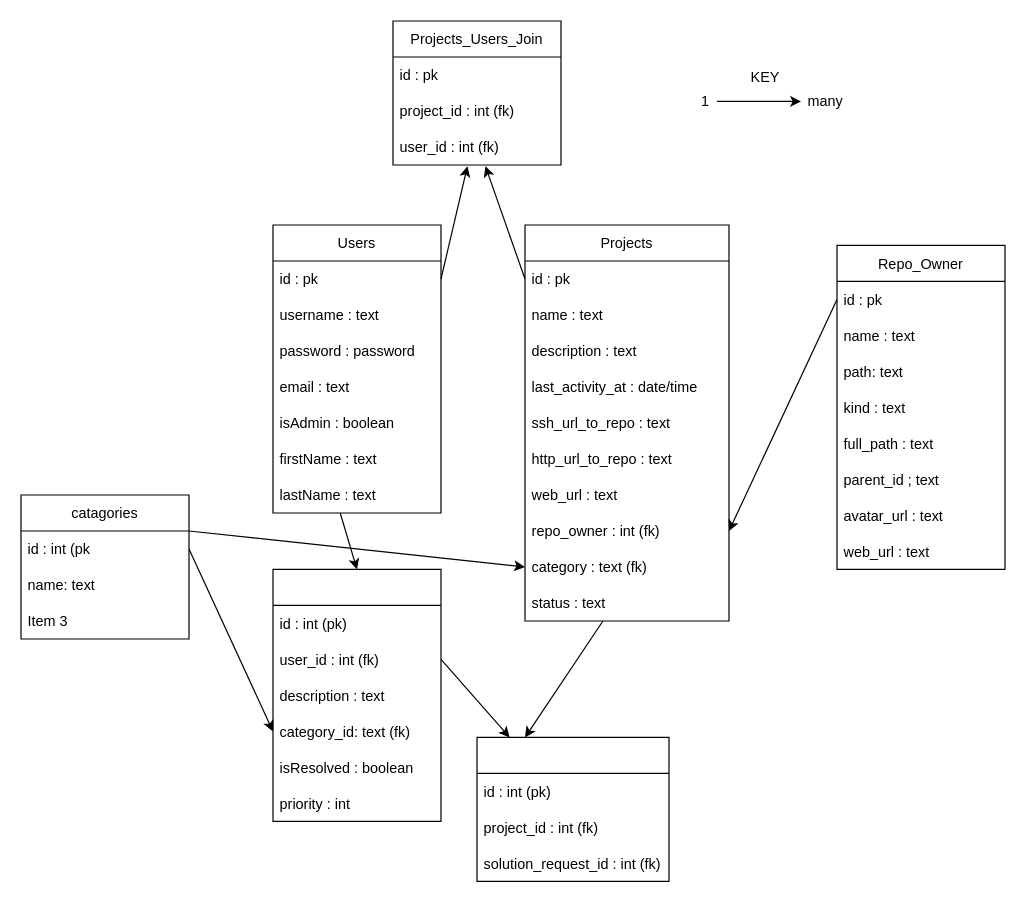
Some shapes in this 1026 by 902 pixel diagram are drawn without their labels. The box of each missing label's shape, as (x1, y1, x2, y2) in pixels:
Project_Solutions: (476, 736, 669, 881)
Solution_Requests: (272, 568, 441, 821)
